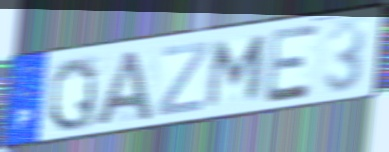3: (323, 17, 368, 95)
A: (93, 48, 155, 128)
E: (264, 21, 322, 107)
M: (203, 33, 271, 111)
Q: (46, 54, 100, 134)
Z: (155, 38, 212, 119)
